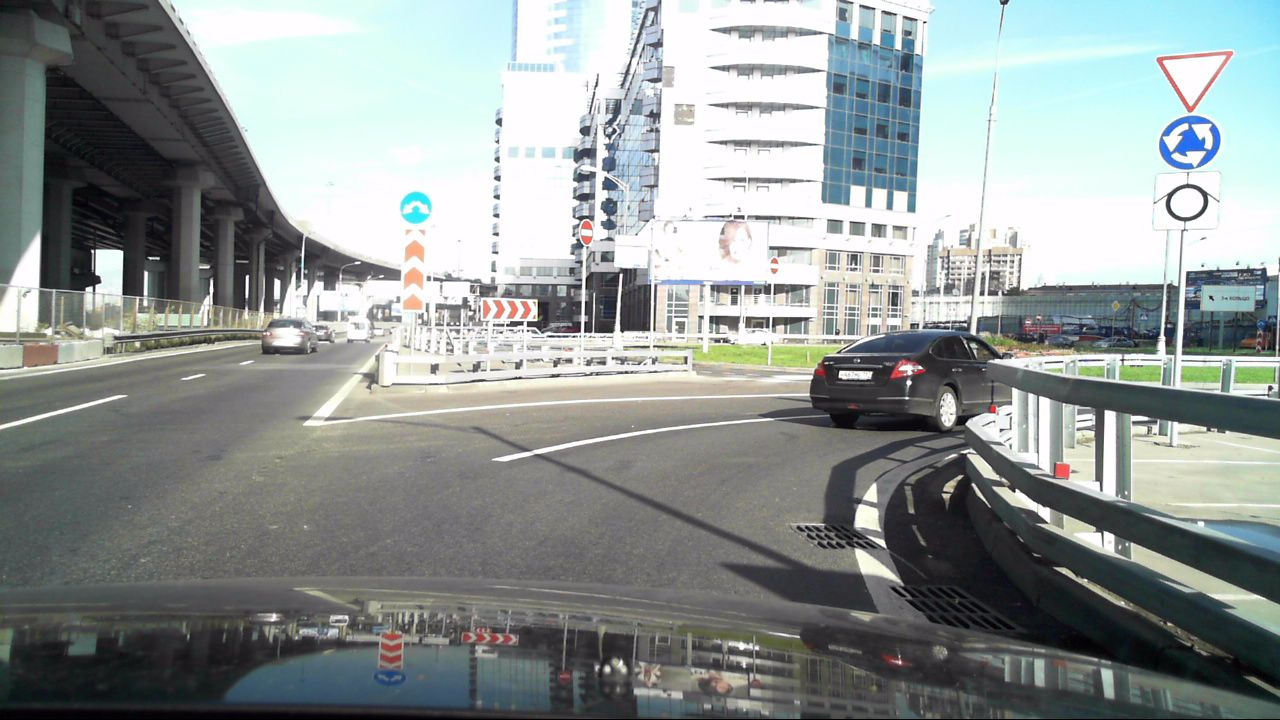Round-About: (1155, 111, 1223, 175)
